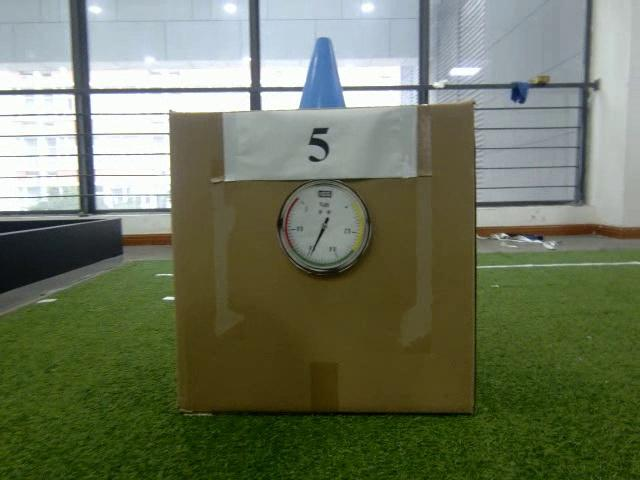5: (306, 124, 332, 165)
Dashboard: (275, 178, 373, 278)
blue_barrel: (297, 37, 348, 109)
ssi: (317, 188, 335, 199)
